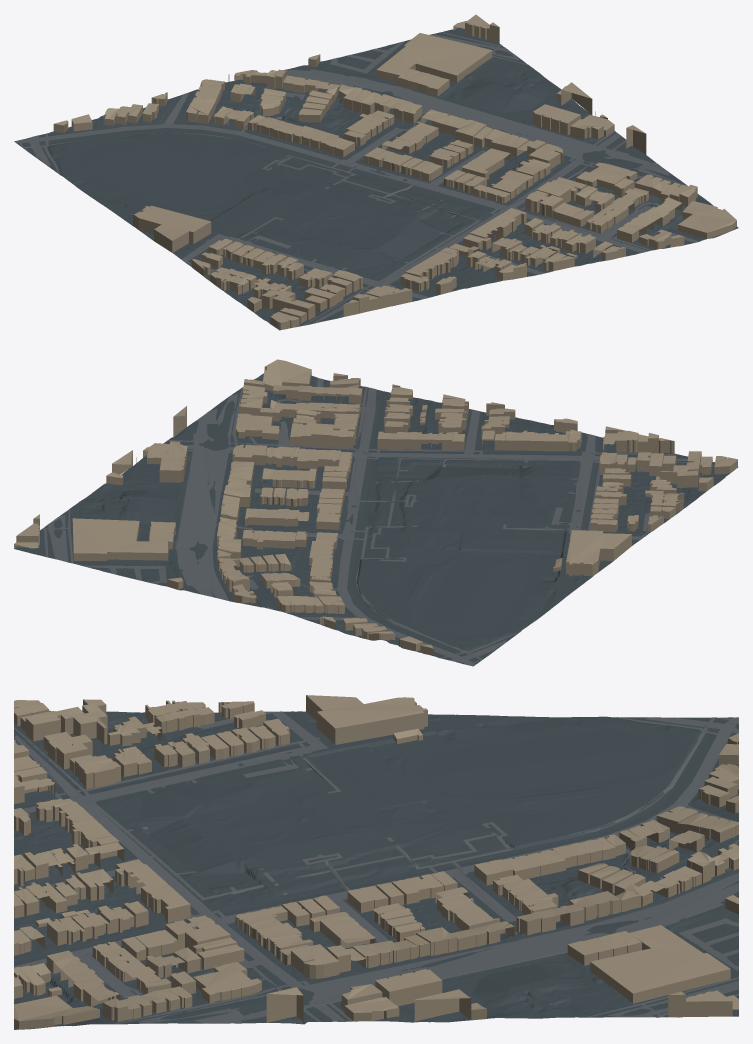
File: epsg26910-1430-10872.lod0.glb
The picture shows the model from 3 angles, top to bottom: view 1: azimuth 30°, elevation 25°; view 2: azimuth 150°, elevation 25°; view 3: azimuth 270°, elevation 25°; orthographic projection. The views are drawn at different scales.
Visible parts, largest first — view 1: epsg26910-1430-10872-lod0; view 2: epsg26910-1430-10872-lod0; view 3: epsg26910-1430-10872-lod0.
Part boxes in pixels (left/top/right/bottom): epsg26910-1430-10872-lod0: left=14, top=14, right=738, bottom=330; epsg26910-1430-10872-lod0: left=14, top=359, right=738, bottom=666; epsg26910-1430-10872-lod0: left=14, top=695, right=738, bottom=1029.
Bounding box in the file's own units: 384 × 24.72 × 384.
